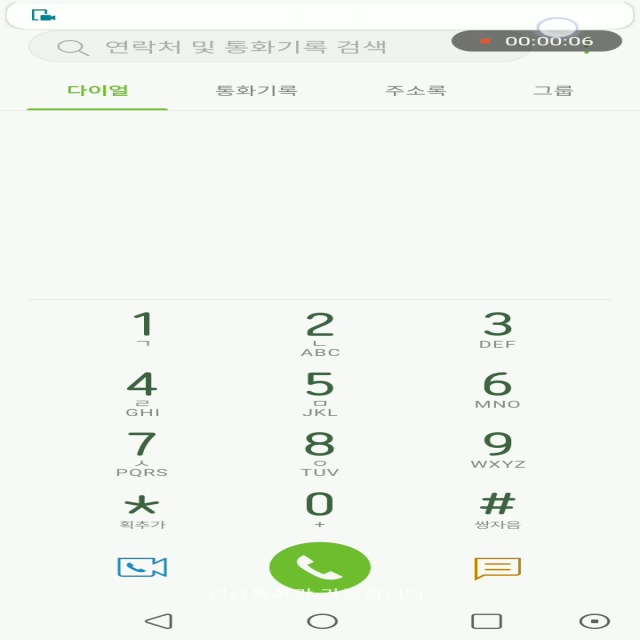Cursor: (536, 17, 580, 40)
